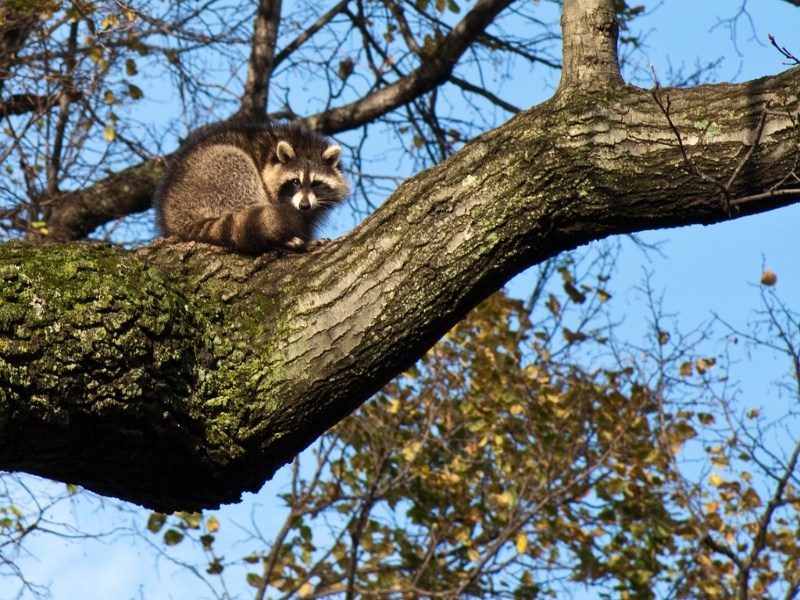raccoon: (155, 114, 349, 255)
